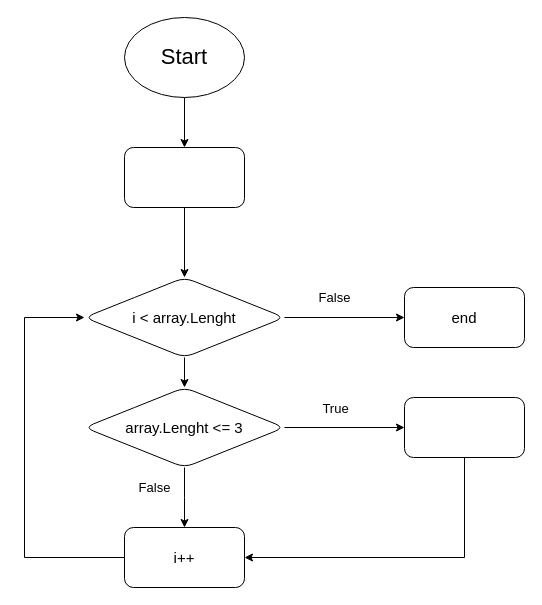
This 542x605 diagram has some shape labels left out. Each missing label, with the centre of its shape:
array: string[] i = 0: int: [184,177]
print(array{i}): [464,427]
